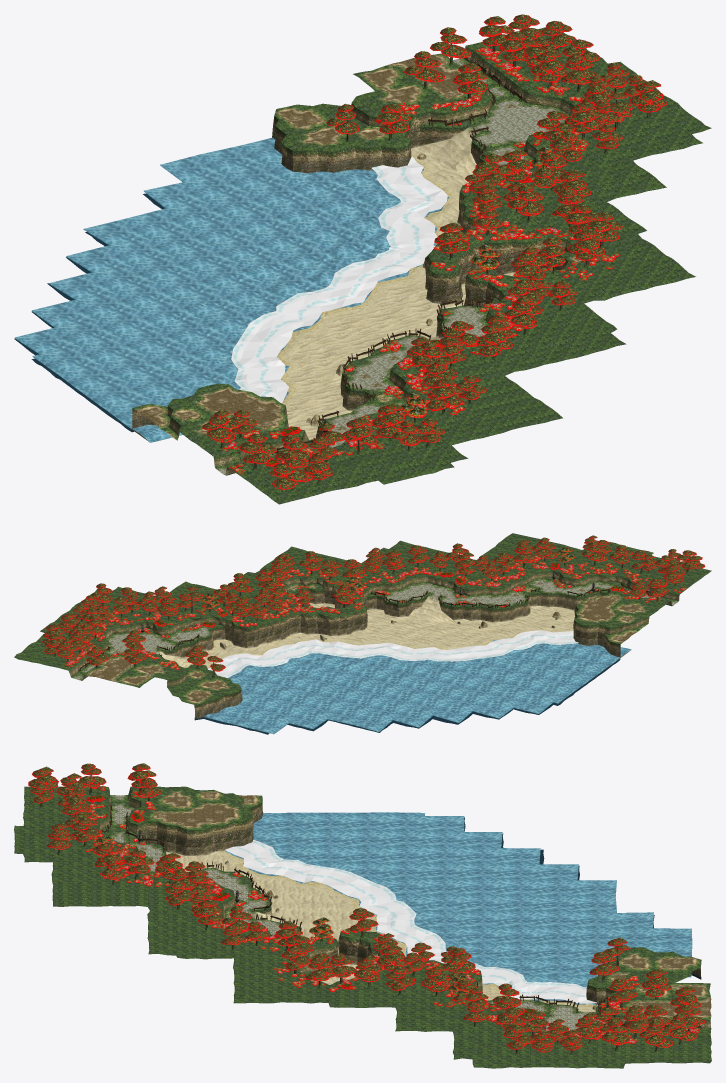
Rendered from GullSeasideWay2.obj.
3 renders of one model, top to bottom at view 1: azimuth 30°, elevation 25°; view 2: azimuth 150°, elevation 25°; view 3: azimuth 270°, elevation 25°, orthographic. The views are drawn at different scales.
Visible parts, largest first — view 1: Object.004; view 2: Object.004; view 3: Object.004.
Part boxes in pixels (left/top/right/bottom): Object.004: left=14, top=14, right=711, bottom=504; Object.004: left=14, top=533, right=711, bottom=734; Object.004: left=14, top=763, right=711, bottom=1068.
Bounding box in the file's own units: 140 × 13.96 × 146.
30 materials, 30 textured.
